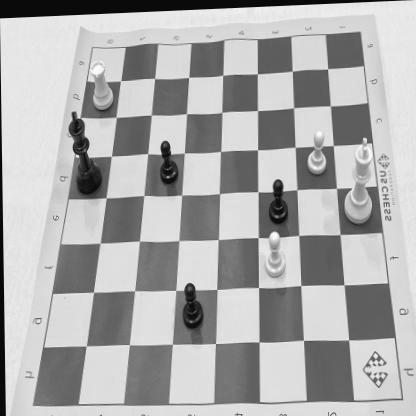black-king: (65, 104, 105, 193)
black-pawn: (156, 130, 184, 187), (266, 169, 290, 226), (178, 277, 204, 329)
white-king: (336, 132, 382, 230)
white-pawn: (261, 224, 289, 282), (302, 127, 330, 182)
white-rook: (89, 49, 118, 112)
